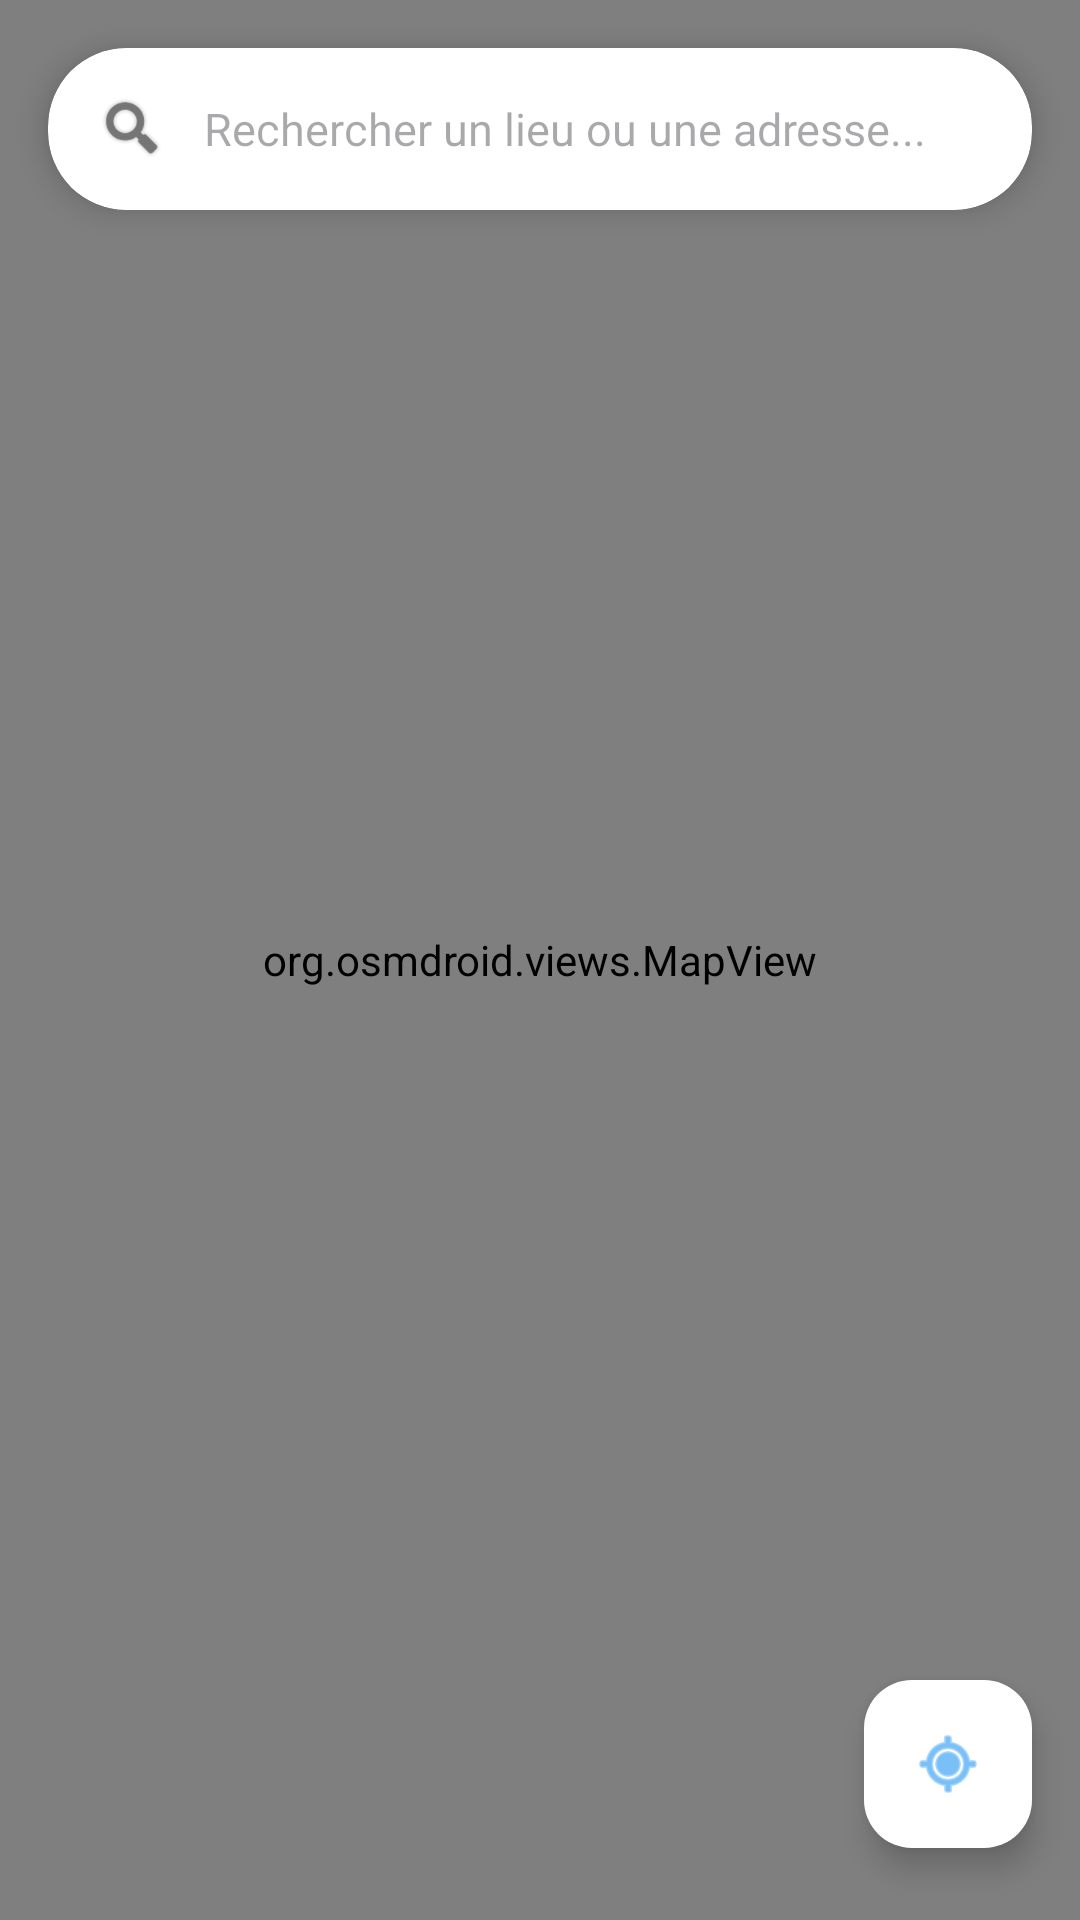

Point at icon controls on the screen. Image size 1080px x 1920px, points as (x=x, y=y).
Ma position: (x=948, y=1764)
